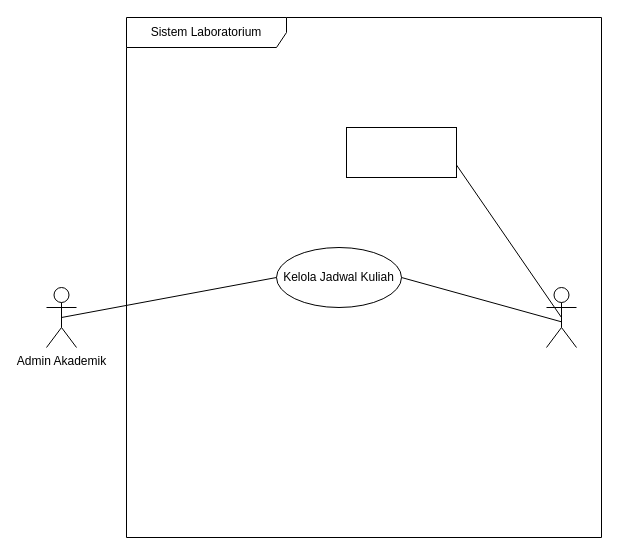
This 619x555 diagram has some shape labels left out. The shapes that lost their labels are listed below. From the top down, each one's centre as x and y in pixels, then its label:
At (401,152): "Fungsi LIhat Jadwal Kuliah".
At (561,317): "Mahasiswa".
